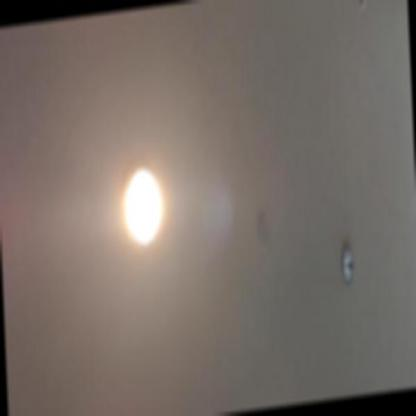light_on: (107, 153, 132, 255)
